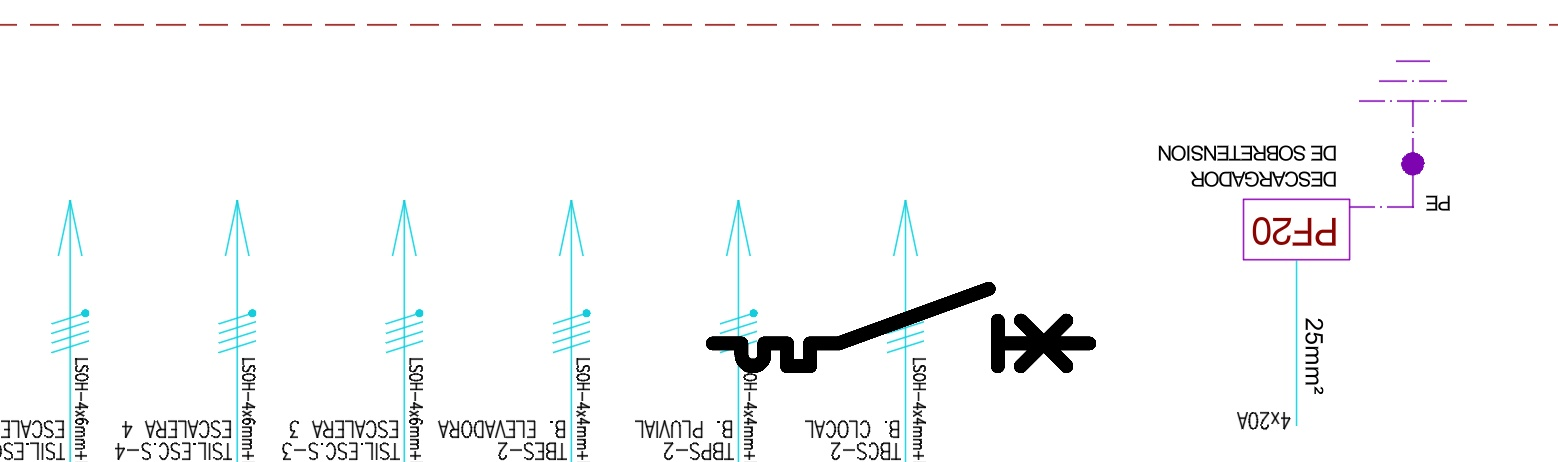interruptor_termomagnetico: (703, 279, 1099, 376)
